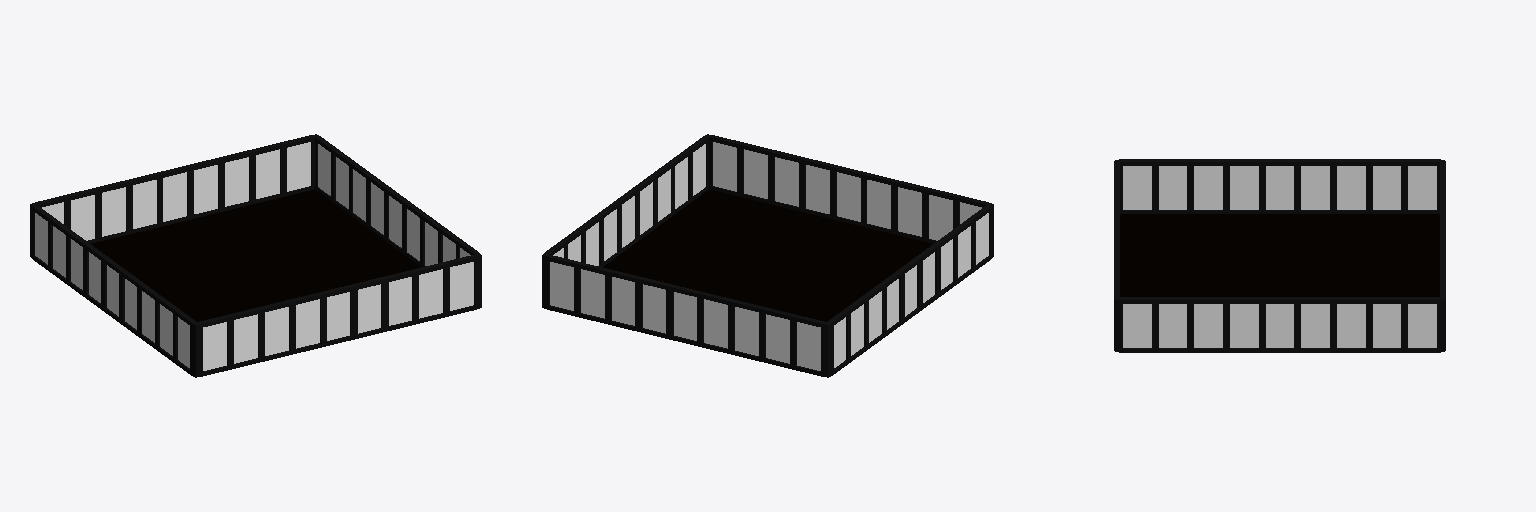
The model's file is spacebase_garden.obj.
The picture shows the model from 3 angles: view 1: azimuth 30°, elevation 25°; view 2: azimuth 150°, elevation 25°; view 3: azimuth 270°, elevation 25°; orthographic projection.
Parts seen in each view (by area): view 1: garden_frame_station_base.001, Plane_Plane.002; view 2: garden_frame_station_base.001, Plane_Plane.002; view 3: garden_frame_station_base.001, Plane_Plane.002.
Boxes of the visible parts, <box> form: garden_frame_station_base.001: <box>30,134,481,377</box>; Plane_Plane.002: <box>35,142,473,370</box>; garden_frame_station_base.001: <box>542,134,993,377</box>; Plane_Plane.002: <box>550,142,988,370</box>; garden_frame_station_base.001: <box>1114,159,1445,352</box>; Plane_Plane.002: <box>1123,166,1436,347</box>.
Size of the model in its own units: 5.7 by 1 by 5.7.